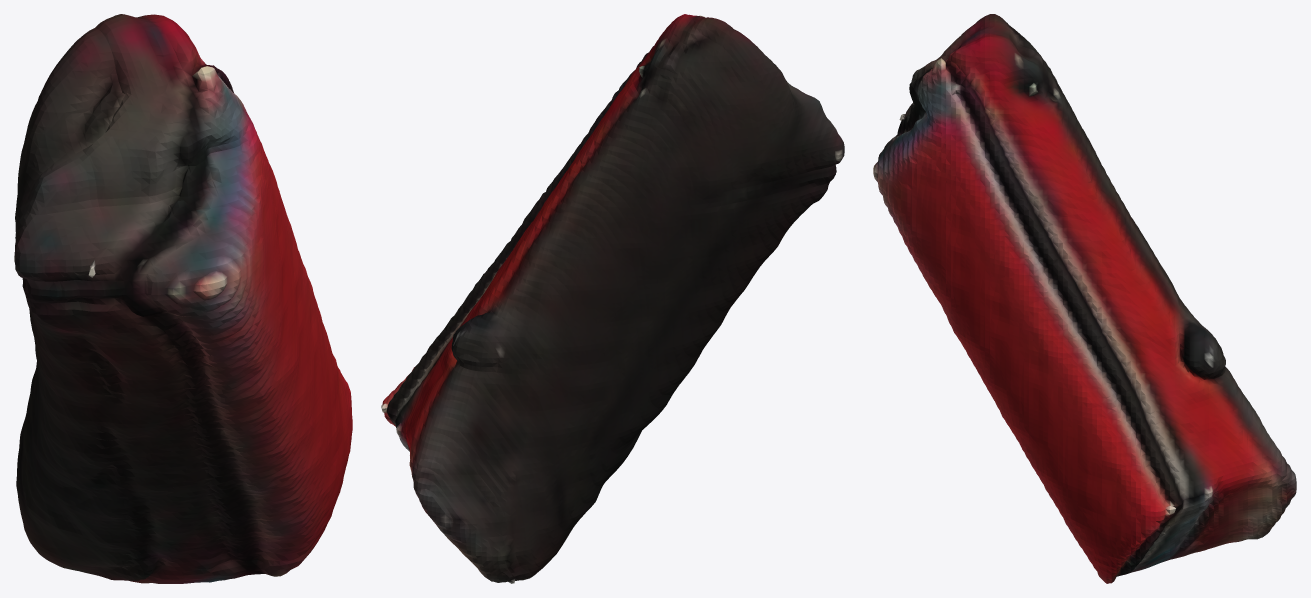
3 renders of one model, left to right at view 1: azimuth 30°, elevation 25°; view 2: azimuth 150°, elevation 25°; view 3: azimuth 270°, elevation 25°, orthographic. The views are drawn at different scales.
Size of the model in its own units: 0.5585 by 0.7578 by 0.5932.
